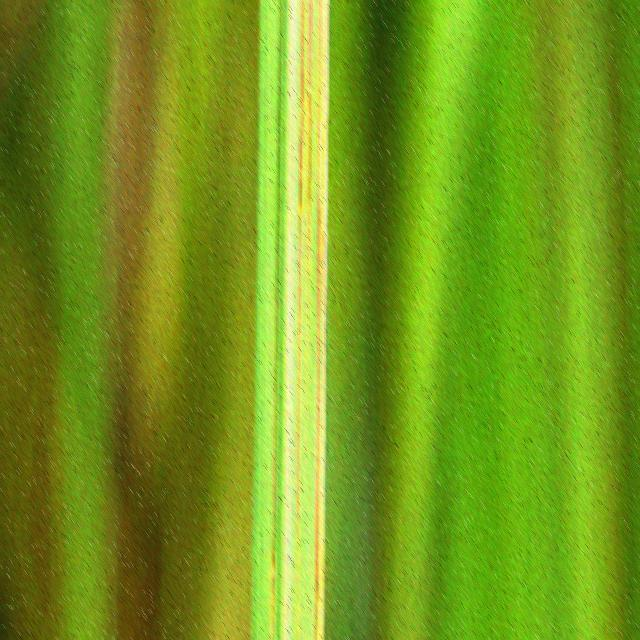BLS: (295, 0, 304, 640), (319, 0, 328, 640), (314, 0, 322, 640), (306, 0, 312, 447), (270, 302, 276, 640)
